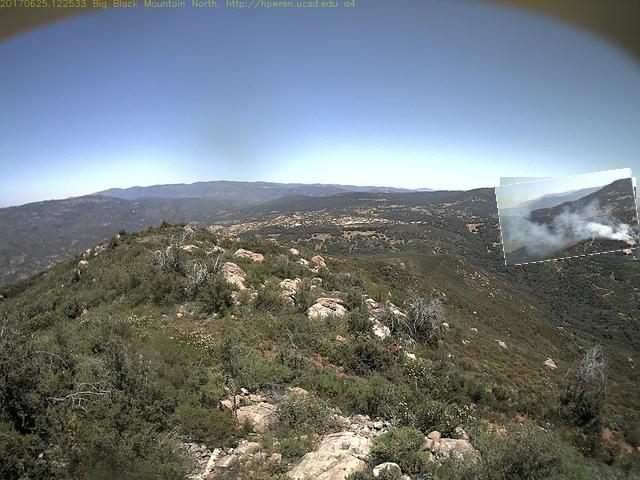smoke: (499, 174, 640, 263)
